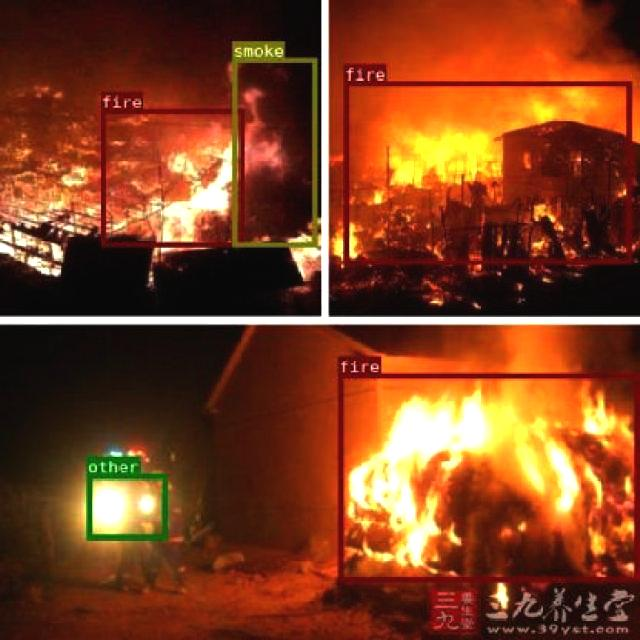fire: (336, 373, 638, 581), (343, 81, 631, 264), (100, 108, 243, 245)
smoke: (231, 57, 317, 246)
